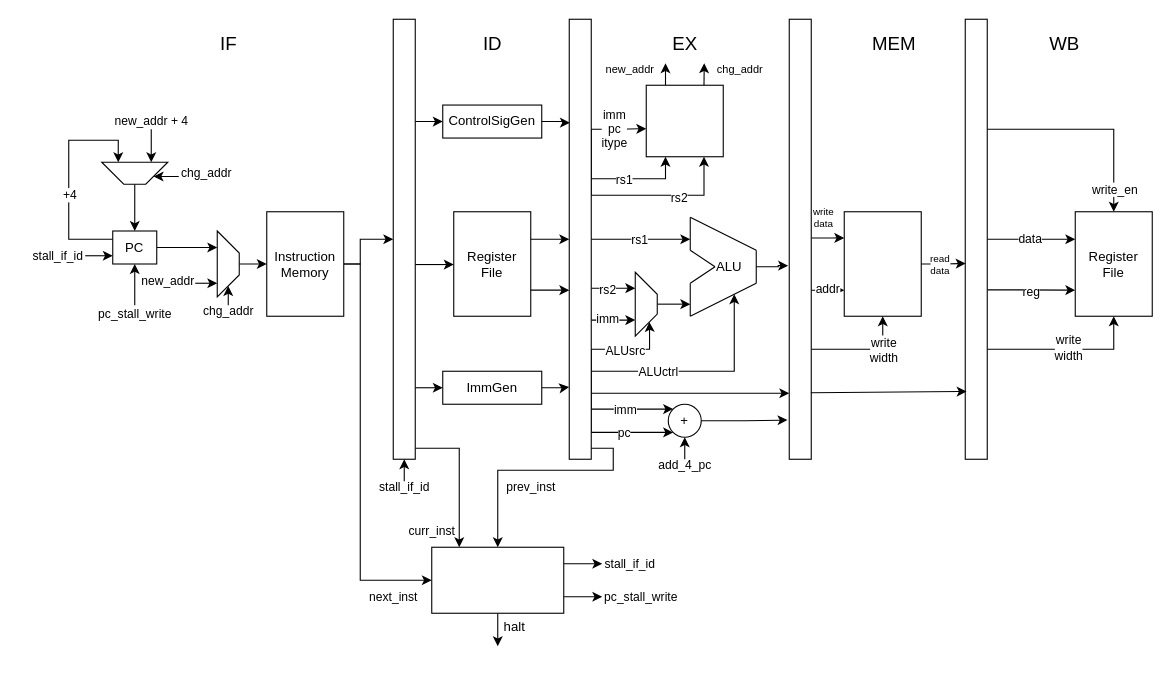
This 1172x674 diagram has some shape labels left out. The centre of each missing label's shape, as x and y in pixels:
Data Memory: the point at 882,263
JumpBranch Calculate: the point at 684,120
Orchestrator: the point at 497,579
